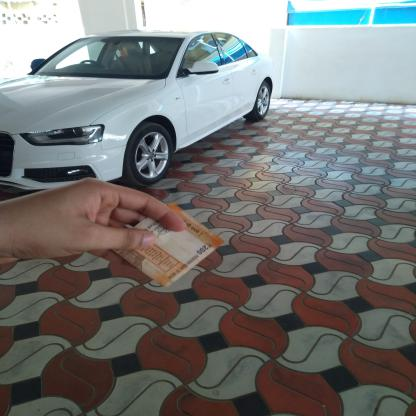New200Back: (116, 208, 218, 284)
